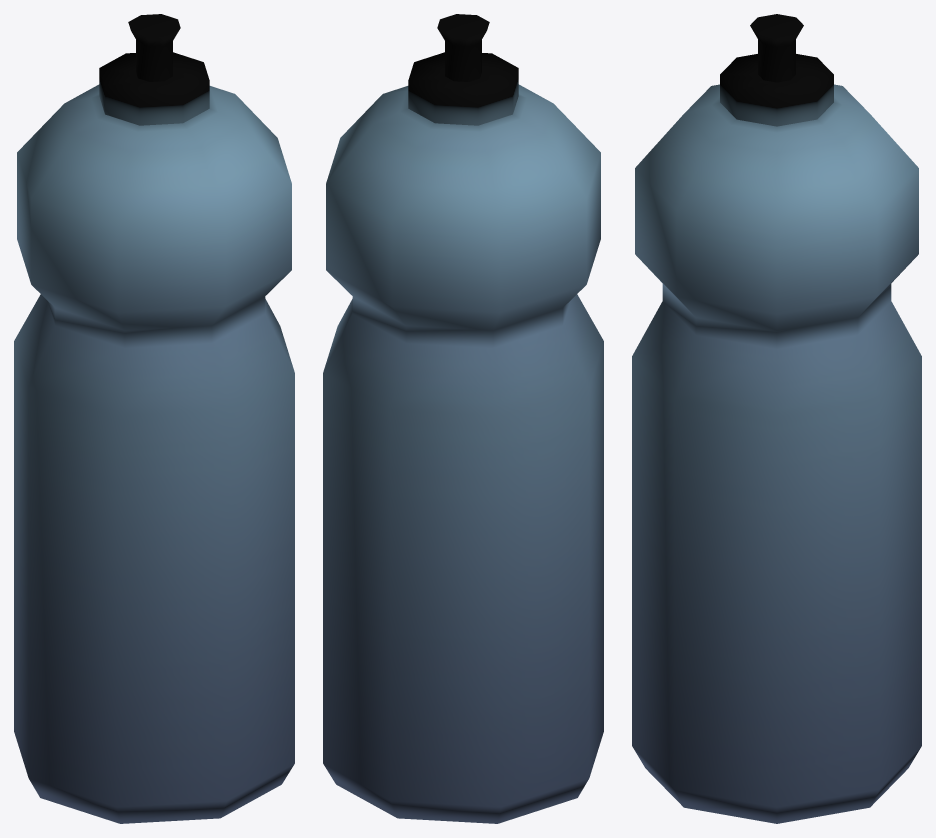
The model's file is bidon.fbx.
3 views of the same model, side by side, from view 1: azimuth 30°, elevation 25°; view 2: azimuth 150°, elevation 25°; view 3: azimuth 270°, elevation 25° (orthographic).
Visible parts, largest first — view 1: bidon; view 2: bidon; view 3: bidon.
Part boxes in pixels (x1=…): bidon: x1=14, y1=14, x2=294, y2=823; bidon: x1=323, y1=14, x2=603, y2=823; bidon: x1=632, y1=14, x2=921, y2=823.
Size of the model in its own units: 3.17 by 8.98 by 3.17.
